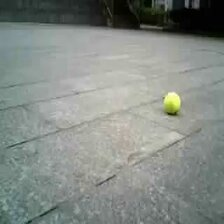tennis: (163, 93, 180, 112)
